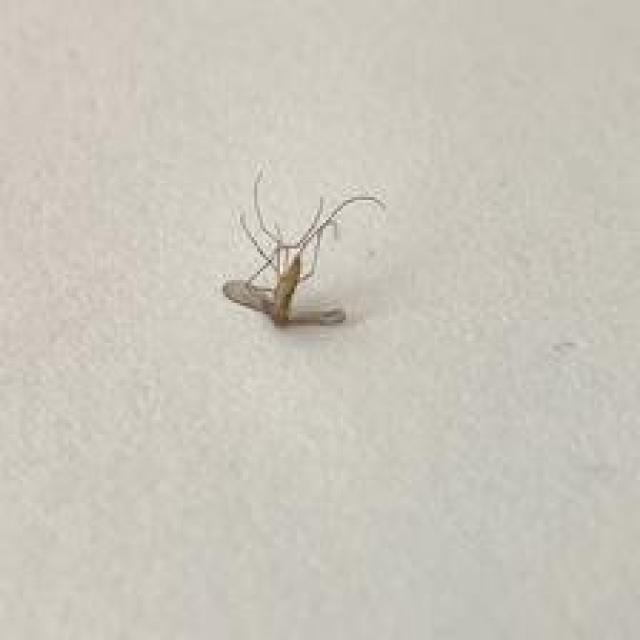Culex: (220, 168, 386, 328)
